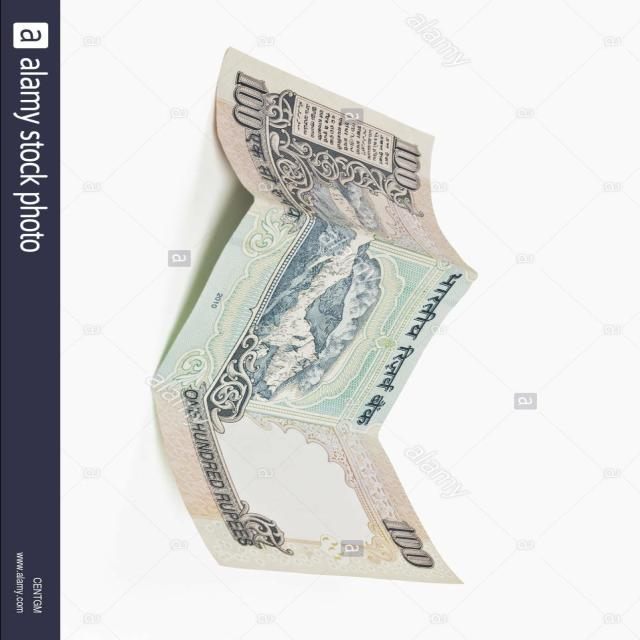100IndianRupees: (148, 49, 476, 583)
